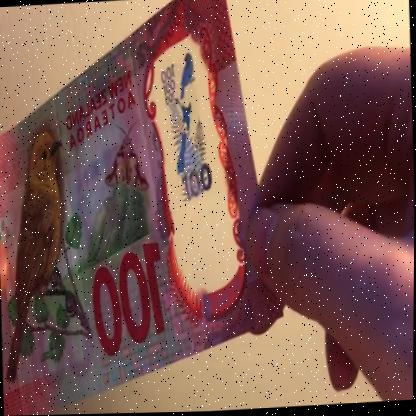100B: (158, 48, 218, 226)
